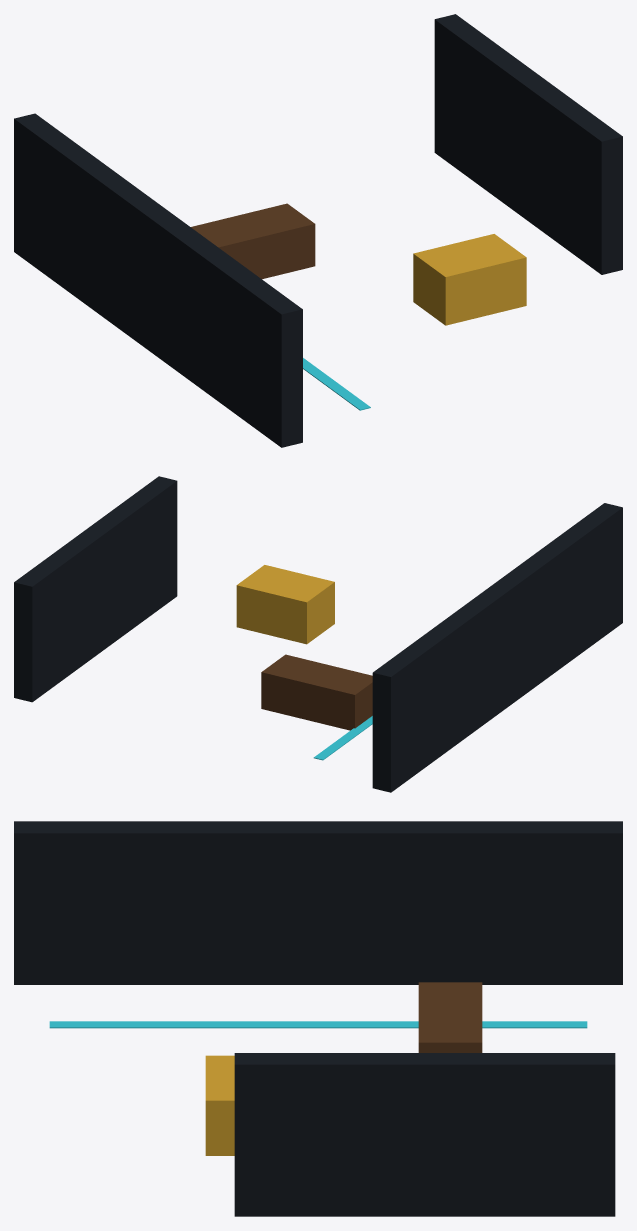
Rendered from module.loading_dock_lane.glb.
3 views of the same model, one above another, from view 1: azimuth 30°, elevation 25°; view 2: azimuth 150°, elevation 25°; view 3: azimuth 270°, elevation 25° (orthographic). The views are drawn at different scales.
Visible parts, largest first — view 1: dock_left_wall, dock_right_guard, forklift_body, pallet_cover, lane_paint; view 2: dock_left_wall, dock_right_guard, pallet_cover, forklift_body, lane_paint; view 3: dock_left_wall, dock_right_guard, pallet_cover, lane_paint, forklift_body.
Part boxes in pixels (x1=…): dock_left_wall: x1=14, y1=113, x2=302, y2=447; dock_right_guard: x1=434, y1=14, x2=622, y2=274; forklift_body: x1=413, y1=234, x2=526, y2=325; pallet_cover: x1=191, y1=203, x2=315, y2=279; lane_paint: x1=303, y1=358, x2=370, y2=410; dock_left_wall: x1=372, y1=503, x2=622, y2=792; dock_right_guard: x1=14, y1=476, x2=177, y2=702; pallet_cover: x1=261, y1=654, x2=372, y2=730; forklift_body: x1=236, y1=565, x2=334, y2=644; lane_paint: x1=313, y1=716, x2=372, y2=760; dock_left_wall: x1=14, y1=821, x2=622, y2=984; dock_right_guard: x1=234, y1=1053, x2=615, y2=1216; pallet_cover: x1=418, y1=982, x2=482, y2=1052; lane_paint: x1=49, y1=1021, x2=587, y2=1028; forklift_body: x1=205, y1=1055, x2=234, y2=1155.
Bounding box in the file's own units: 11.35 × 3.3 × 12.
